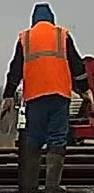gloves: (0, 94, 15, 121), (79, 86, 94, 109)
vest: (19, 21, 72, 101)
